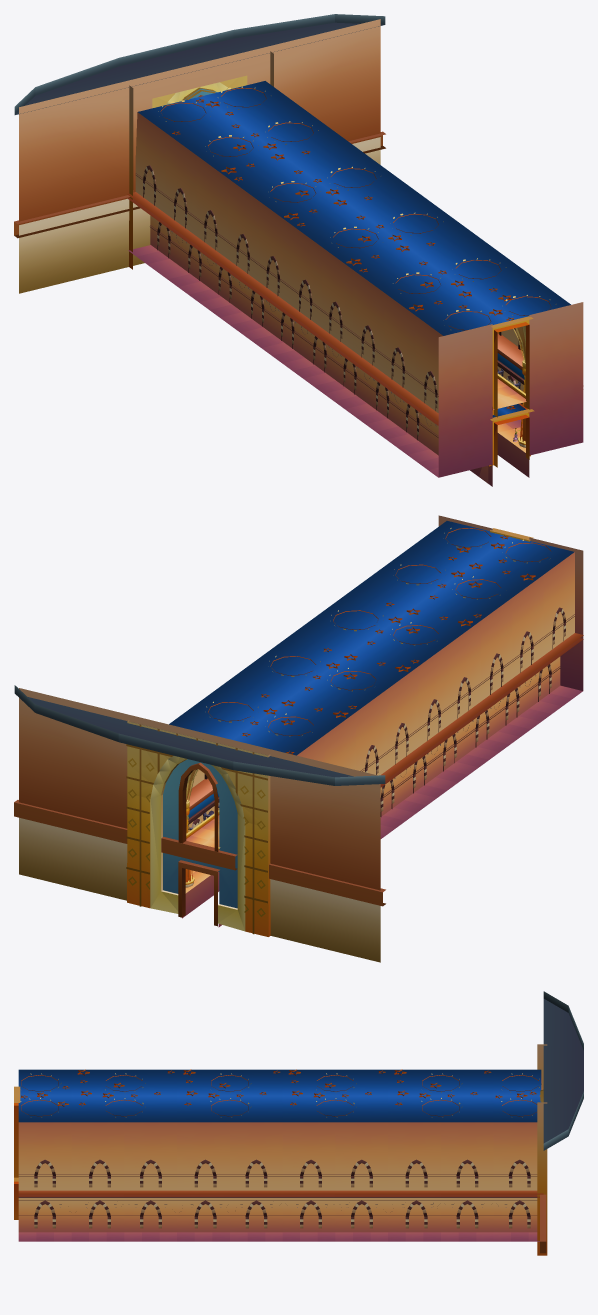
The model's file is Palace.fbx.
3 views of the same model, one above another, from view 1: azimuth 30°, elevation 25°; view 2: azimuth 150°, elevation 25°; view 3: azimuth 270°, elevation 25° (orthographic). The views are drawn at different scales.
Parts seen in each view (by area): view 1: 1.104_Dubai_pillars_start, 1.104_Dubai_pillars_end, 1.104_Dubai_pillars_mid.003, 1.104_Dubai_pillars_mid.001, 1.104_Dubai_pillars_mid.002, 1.104_Dubai_pillars_mid; view 2: 1.104_Dubai_pillars_start, 1.104_Dubai_pillars_mid.003, 1.104_Dubai_pillars_mid.002, 1.104_Dubai_pillars_mid.001, 1.104_Dubai_pillars_end, 1.104_Dubai_pillars_mid; view 3: 1.104_Dubai_pillars_mid.003, 1.104_Dubai_pillars_mid.001, 1.104_Dubai_pillars_mid.002, 1.104_Dubai_pillars_mid, 1.104_Dubai_pillars_start, 1.104_Dubai_pillars_end.
Part boxes in pixels (x1,y1,x2,y2): 1.104_Dubai_pillars_start: [14, 14, 385, 293]; 1.104_Dubai_pillars_end: [407, 284, 583, 486]; 1.104_Dubai_pillars_mid.003: [344, 238, 543, 454]; 1.104_Dubai_pillars_mid.001: [219, 147, 417, 363]; 1.104_Dubai_pillars_mid.002: [282, 193, 480, 408]; 1.104_Dubai_pillars_mid: [157, 101, 355, 317]; 1.104_Dubai_pillars_start: [14, 685, 385, 962]; 1.104_Dubai_pillars_mid.003: [353, 543, 552, 759]; 1.104_Dubai_pillars_mid.002: [291, 589, 489, 805]; 1.104_Dubai_pillars_mid.001: [228, 635, 427, 838]; 1.104_Dubai_pillars_end: [416, 515, 583, 713]; 1.104_Dubai_pillars_mid: [169, 681, 355, 896]; 1.104_Dubai_pillars_mid.003: [71, 1069, 177, 1241]; 1.104_Dubai_pillars_mid.001: [282, 1069, 388, 1241]; 1.104_Dubai_pillars_mid.002: [177, 1069, 282, 1241]; 1.104_Dubai_pillars_mid: [388, 1069, 493, 1241]; 1.104_Dubai_pillars_start: [493, 991, 583, 1255]; 1.104_Dubai_pillars_end: [14, 1069, 71, 1241].
Size of the model in its own units: 30353 by 15142 by 47907.
